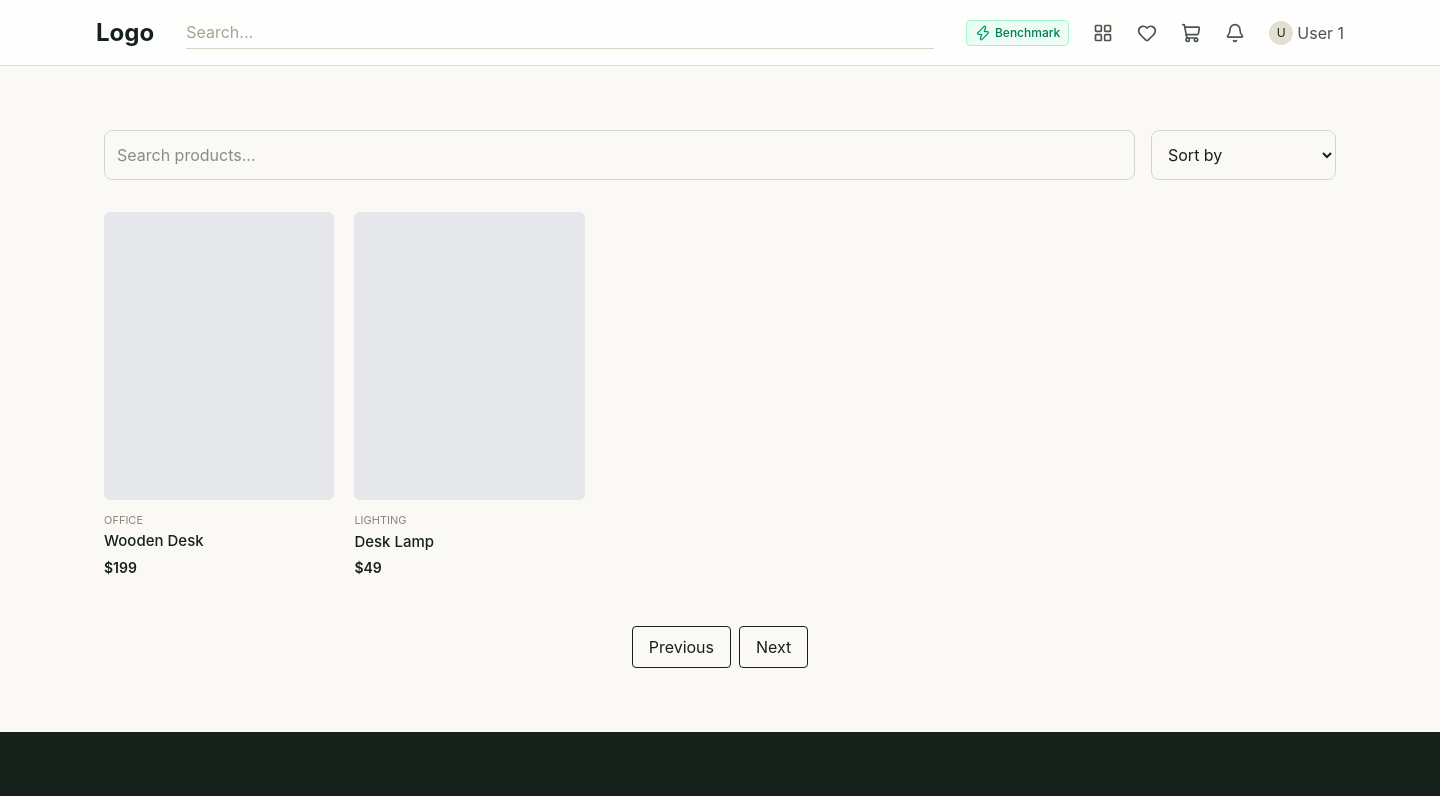
it: User Experience Pages › SearchPage › renders search input and filters products by query
The image size is (1440, 796).
Check: the text "Wooden Desk" is shown, box [104,532,204,550]
Check: the text "Desk Lamp" is shown, box [354,532,434,550]
// Filter for 'Desk Lamp'
Type "Lamp" into the field with placeholder "Search products..." at (620, 155), box [104,130,1135,180]
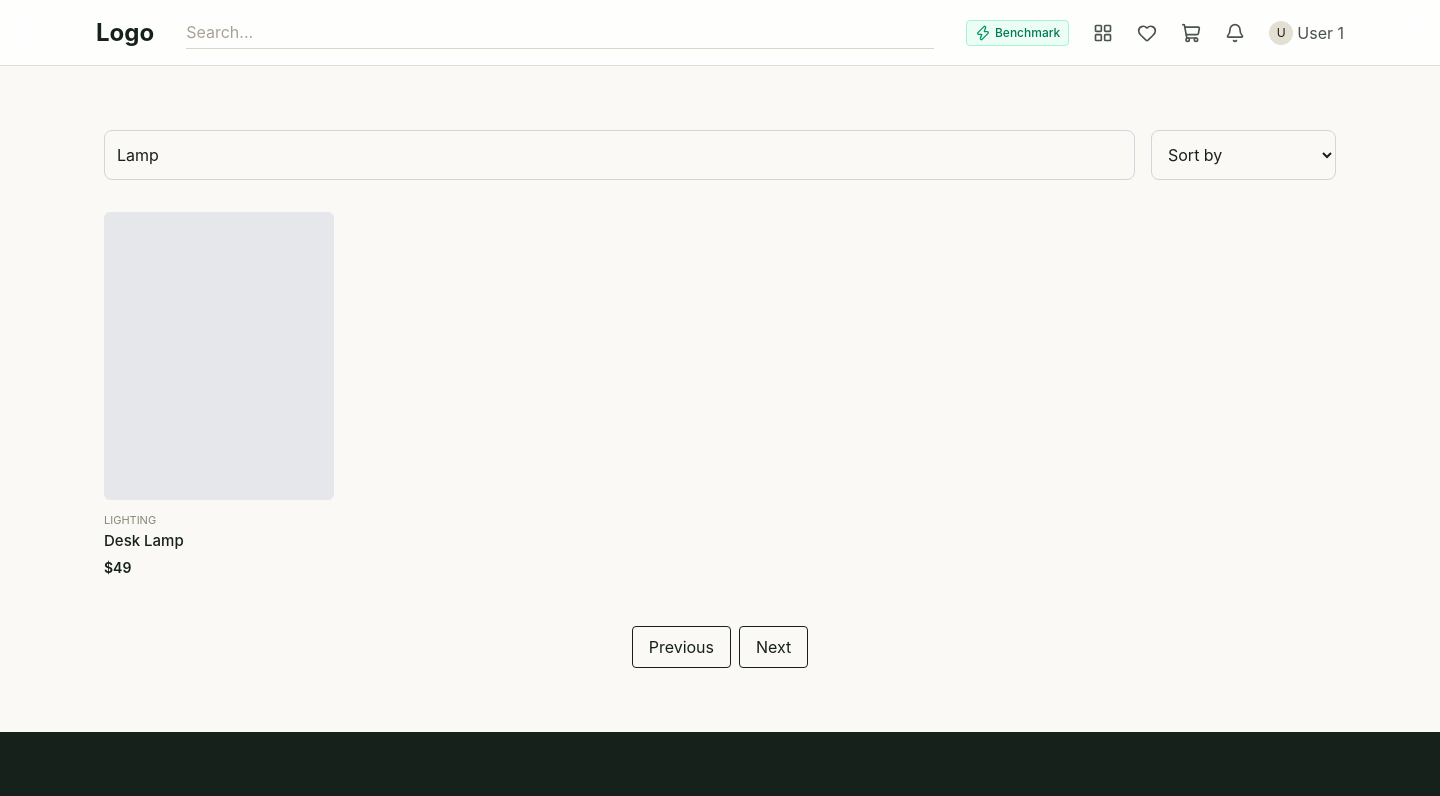
Check: the text "Desk Lamp" is shown, box [104,532,184,550]
Check: the text "Wooden Desk" is gone
